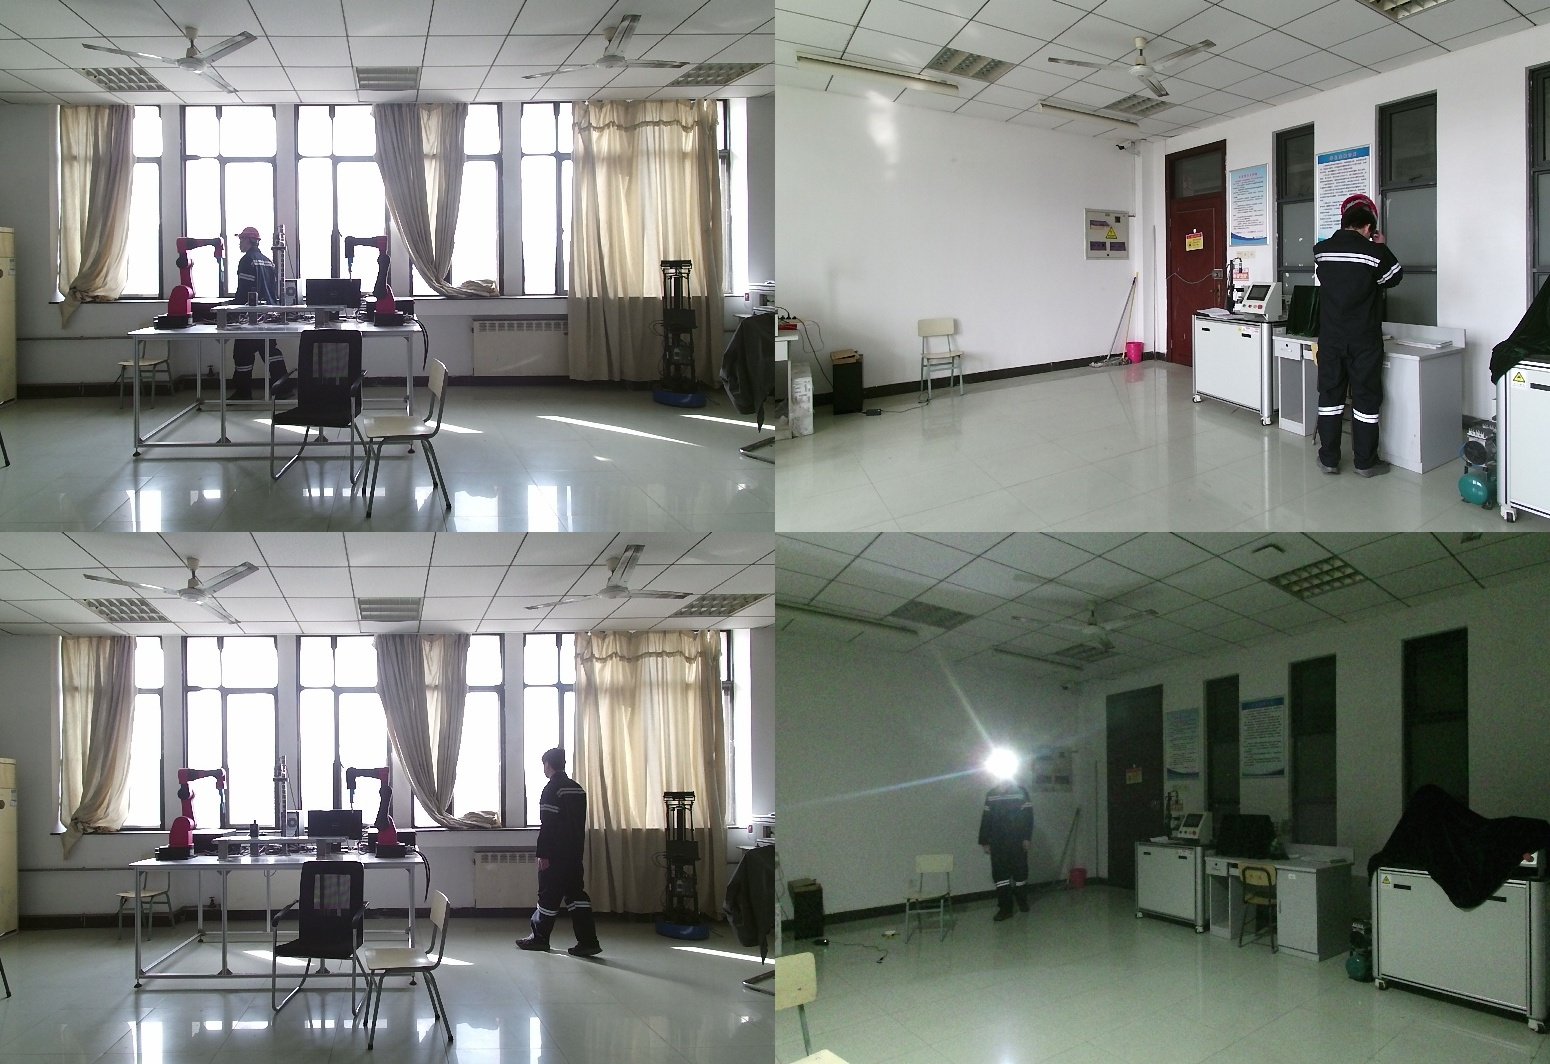person: (1311, 199, 1425, 479), (520, 749, 608, 965), (227, 226, 294, 402), (981, 760, 1038, 928)
